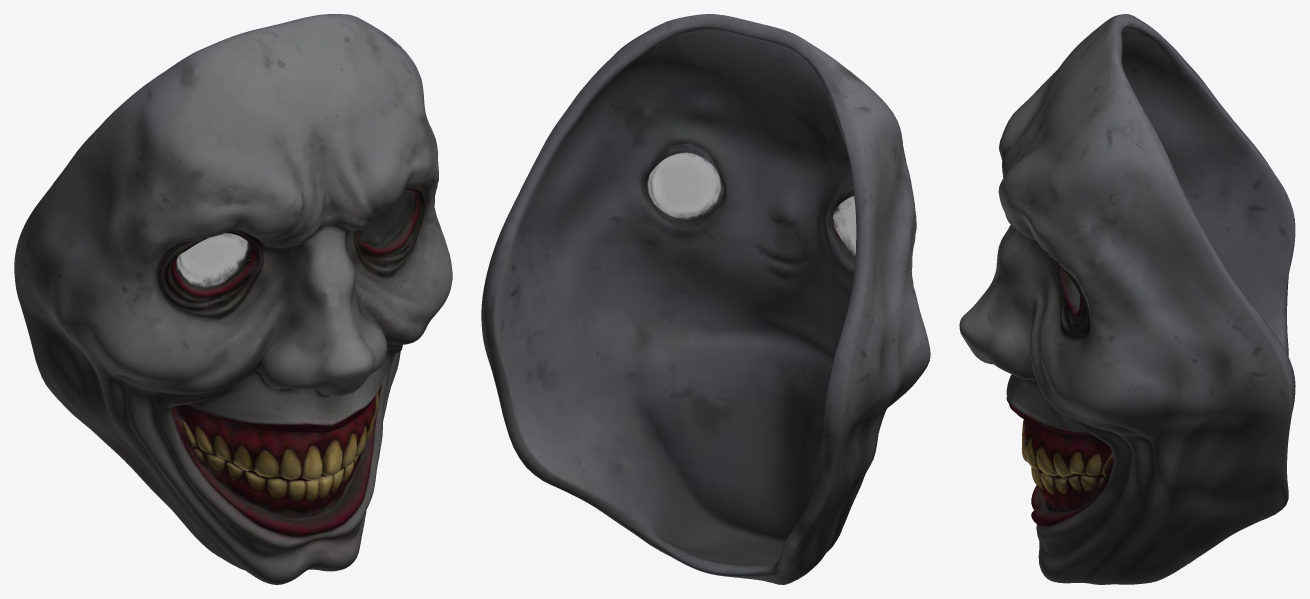
File: prop_horror_mask.glb
3 views of the same model, side by side, from view 1: azimuth 30°, elevation 25°; view 2: azimuth 150°, elevation 25°; view 3: azimuth 270°, elevation 25° (orthographic). The views are drawn at different scales.
Visible parts, largest first — view 1: lp_horrormask_mesh.001; view 2: lp_horrormask_mesh.001; view 3: lp_horrormask_mesh.001.
Part boxes in pixels (bbox=[...]): lp_horrormask_mesh.001: bbox=[14, 14, 452, 584]; lp_horrormask_mesh.001: bbox=[481, 14, 930, 584]; lp_horrormask_mesh.001: bbox=[959, 14, 1295, 584].
Size of the model in its own units: 0.1601 by 0.2221 by 0.1275.
Materials: 1 (1 with a texture image).
